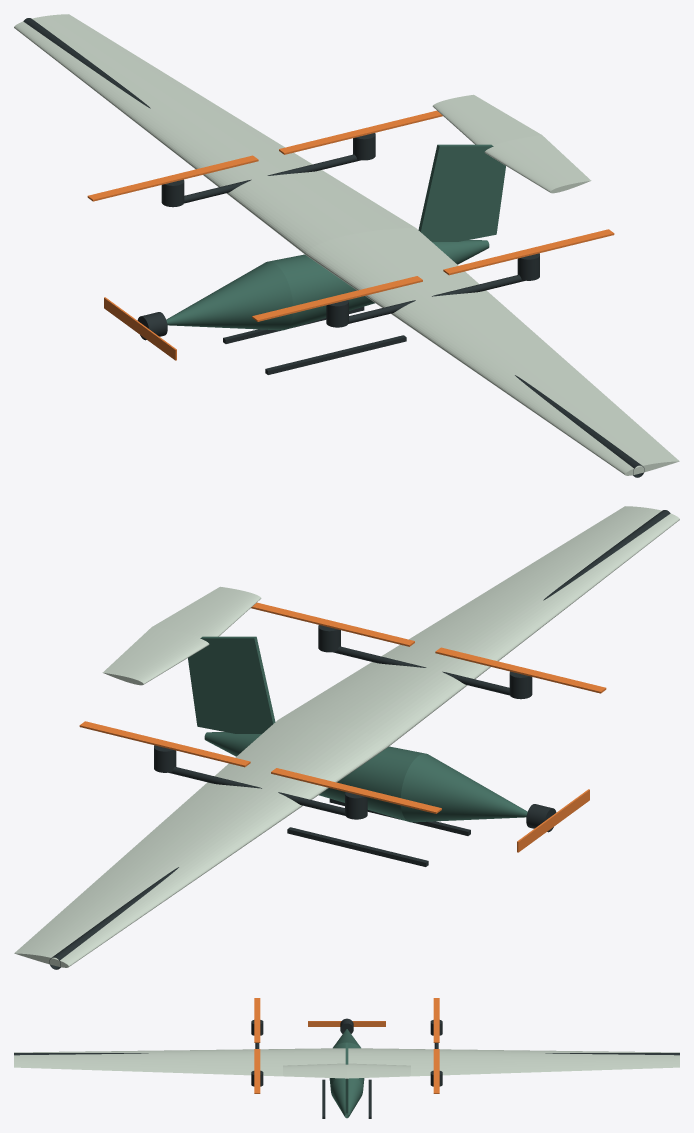
The picture shows the model from 3 angles, top to bottom: view 1: azimuth 30°, elevation 25°; view 2: azimuth 150°, elevation 25°; view 3: azimuth 270°, elevation 25°; orthographic projection. The views are drawn at different scales.
Parts seen in each view (by area): view 1: wing-1, wing1, fuselage, fin, tail-1, tail1, wing_spar, prop_1_230.0, prop_-1_700.0, prop_-1_230.0, prop_1_700.0, skid-1 (+3 smaller); view 2: wing1, wing-1, fuselage, fin, tail1, tail-1, wing_spar, prop_-1_230.0, prop_1_700.0, prop_1_230.0, prop_-1_700.0, skid1 (+3 smaller); view 3: wing-1, wing1, fuselage, tail-1, tail1, wing_spar, cruise_prop, prop_-1_230.0, prop_-1_700.0, prop_1_230.0, prop_1_700.0, fin.
Part boxes in pixels (x1,y1,x2,y2): wing-1: (306,227,679,475); wing1: (14,14,414,254); fuselage: (166,240,489,330); fin: (418,144,505,241); tail-1: (484,135,591,193); tail1: (432,94,541,145); wing_spar: (23,18,644,477); prop_1_230.0: (87,155,258,201); prop_-1_700.0: (443,229,614,275); prop_-1_230.0: (252,276,422,321); prop_1_700.0: (279,110,442,154); skid-1: (265,335,406,374); wing1: (14,719,387,967); wing-1: (279,506,679,746); fuselage: (204,732,527,822); fin: (188,636,275,733); tail1: (102,627,209,685); tail-1: (152,586,261,637); wing_spar: (49,510,670,969); prop_-1_230.0: (435,647,606,693); prop_1_700.0: (79,721,250,767); prop_1_230.0: (271,768,441,813); prop_-1_700.0: (251,602,414,646); skid1: (287,827,428,866); wing-1: (14,1048,345,1078); wing1: (348,1048,679,1078); fuselage: (329,1029,364,1118); tail-1: (283,1063,346,1078); tail1: (347,1063,410,1078); wing_spar: (14,1053,679,1055); cruise_prop: (308,1021,385,1026); prop_-1_230.0: (254,998,260,1042); prop_-1_700.0: (254,1049,260,1093); prop_1_230.0: (433,998,439,1042); prop_1_700.0: (433,1049,439,1093); fin: (345,1043,348,1113).
Size of the model in its own units: 989 by 390 by 2600.
